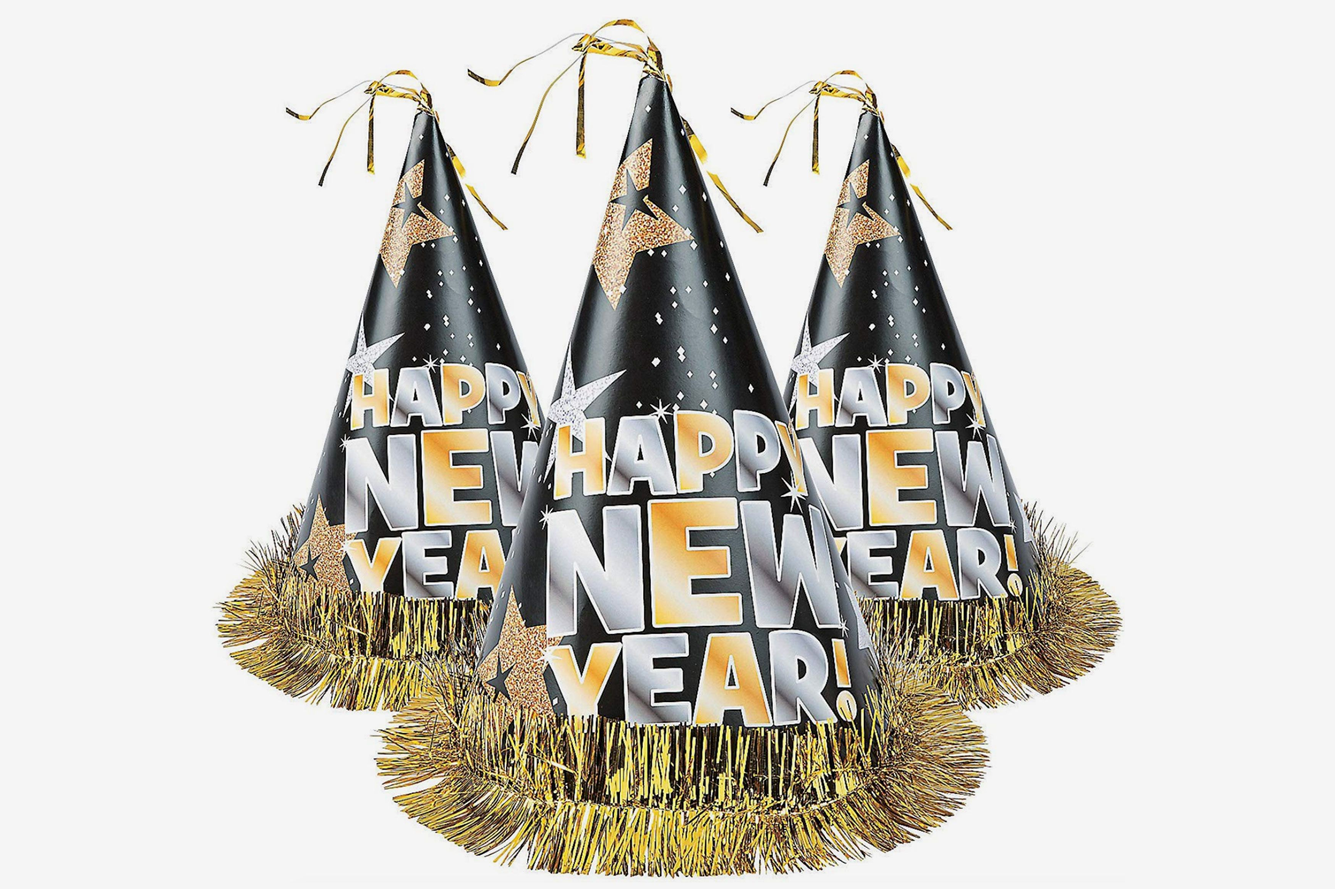cone: (374, 39, 992, 879), (779, 83, 1121, 711), (217, 84, 546, 711)
